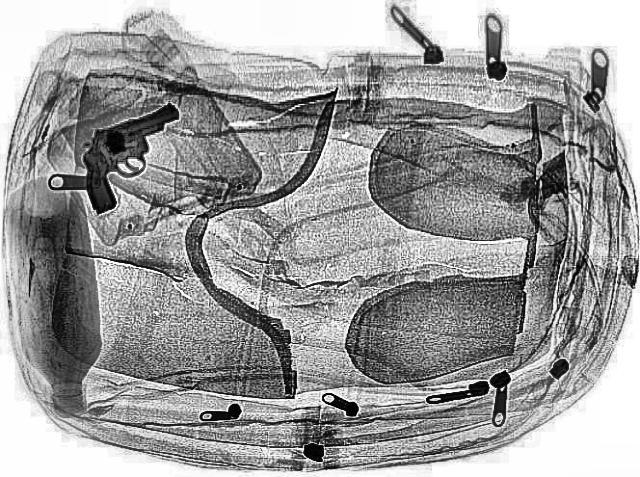Gun: (36, 90, 214, 214)
